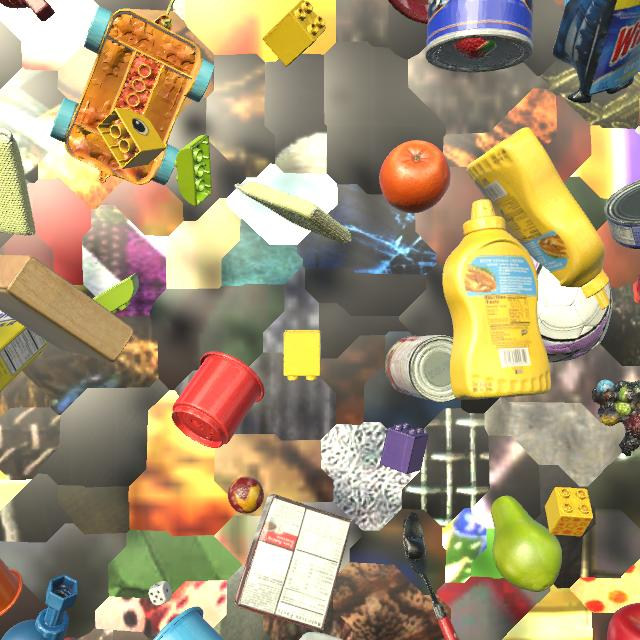ycb_002_master_chef_can: (425, 0, 534, 72)
ycb_004_sugar_box: (0, 311, 51, 392)
ycb_005_tomato_soup_can: (385, 335, 456, 402)
ycb_006_mustard_bottle: (467, 127, 610, 310), (442, 199, 551, 400)
ycb_007_tuna_fish_can: (604, 179, 640, 249)
ycb_008_pudding_box: (235, 494, 352, 631)
ycb_012_strawberry: (454, 38, 497, 59)
ycb_013_apple: (607, 603, 640, 640)
ycb_016_pear: (491, 496, 562, 592)
ycb_017_orange: (379, 140, 451, 213)
